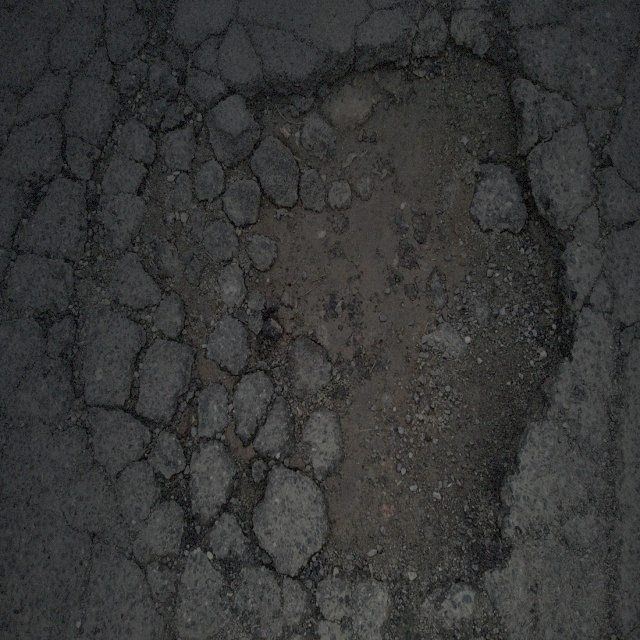pothole: (171, 37, 573, 611)
